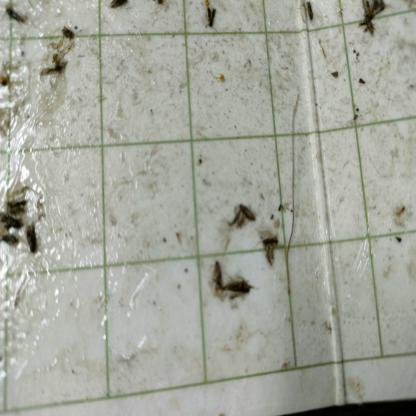prays_oleae: (221, 263, 256, 312), (356, 2, 387, 38), (229, 198, 256, 234), (202, 5, 230, 39), (20, 223, 44, 258), (6, 4, 31, 29), (212, 253, 224, 303), (261, 237, 280, 265), (2, 235, 20, 250)
